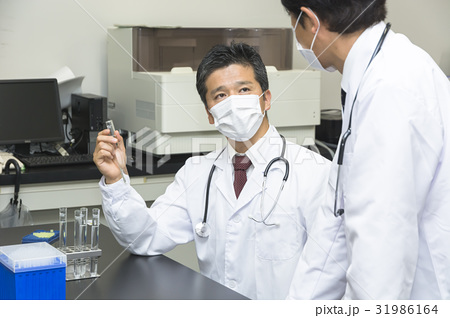mask: (211, 97, 270, 149)
